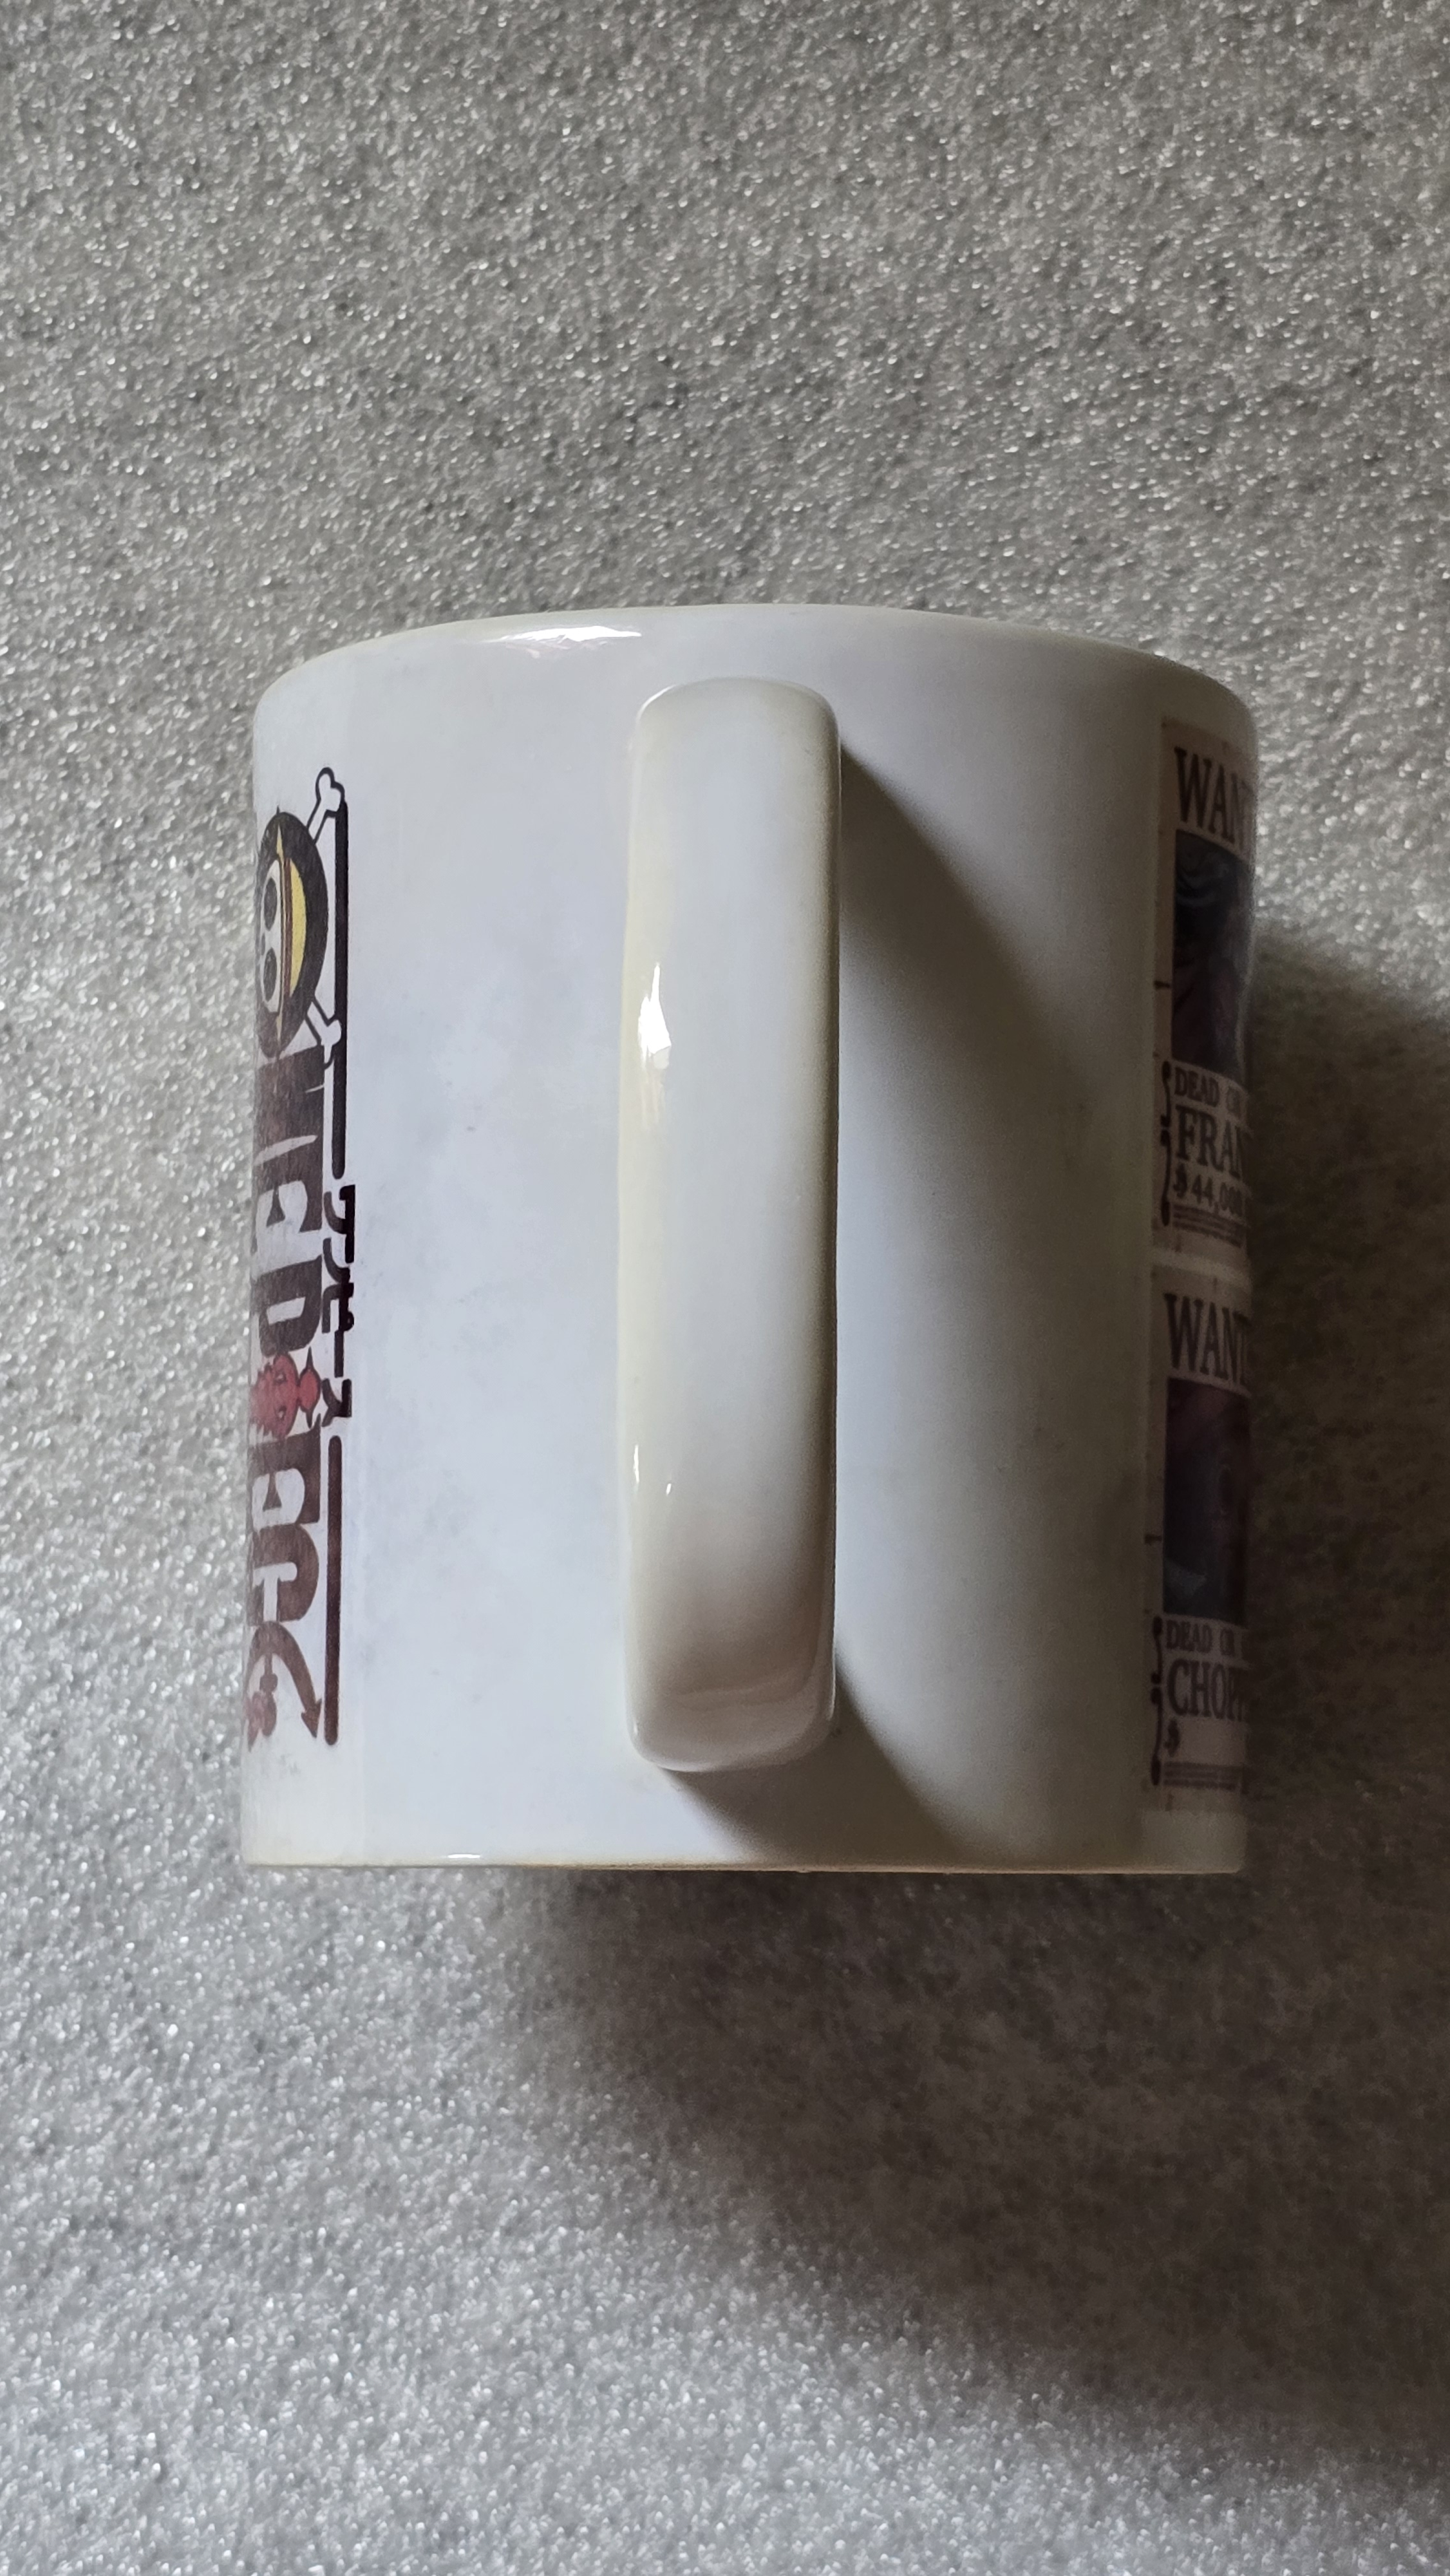mug: (203, 563, 1294, 1927)
